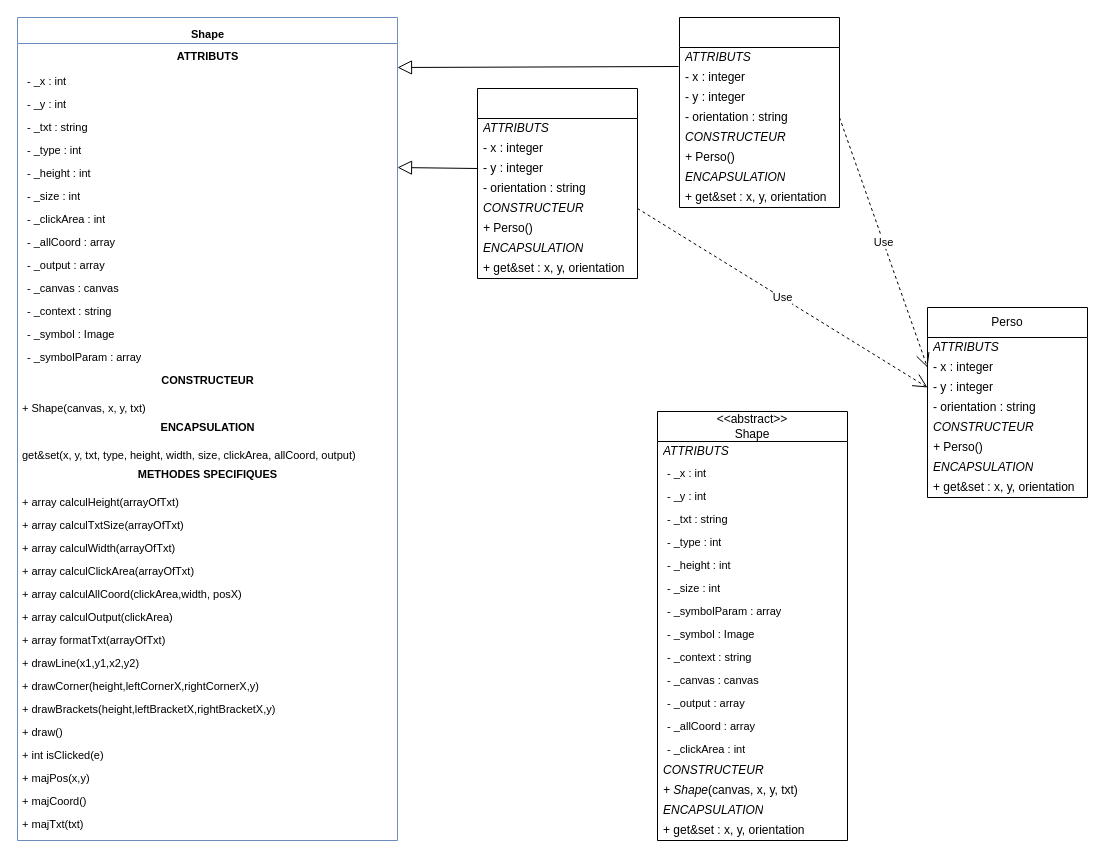
Some shapes in this 1105 by 858 pixel diagram are drawn without their labels. The box of each missing label's shape, as (x1, y1, x2, y2) in pixels:
Break: (678, 16, 840, 208)
Loop: (476, 88, 638, 278)
